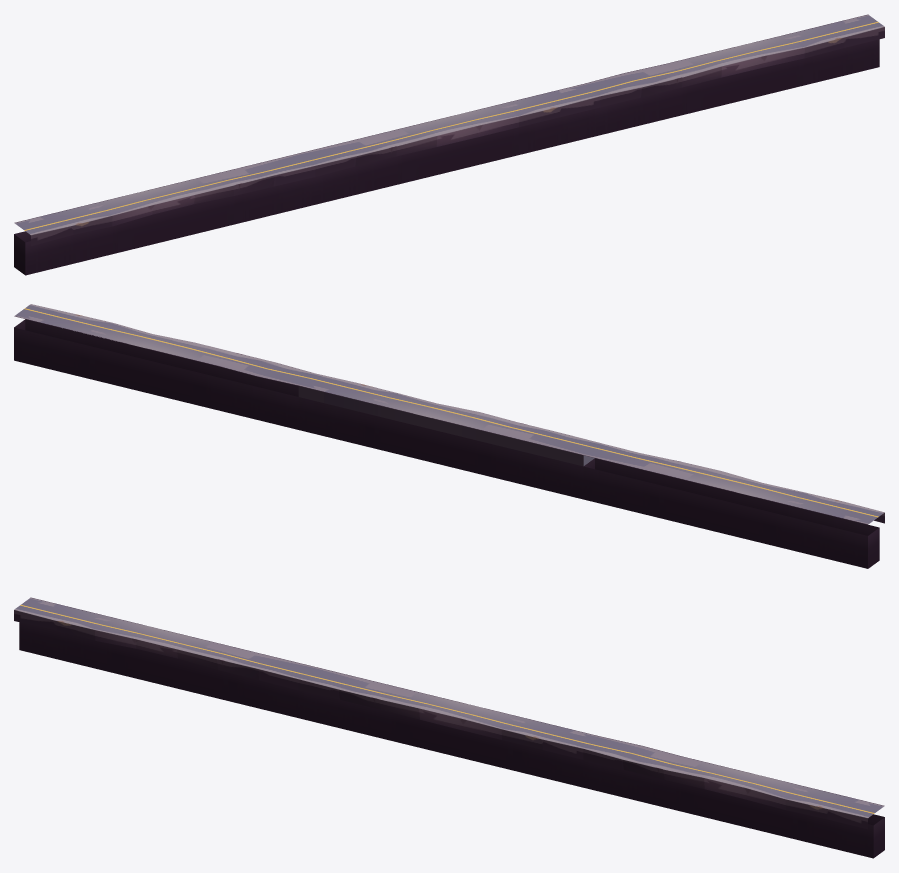
Rendered from Suelo_ante_de_la_via.fbx.
The picture shows the model from 3 angles, top to bottom: view 1: azimuth 30°, elevation 25°; view 2: azimuth 150°, elevation 25°; view 3: azimuth 330°, elevation 25°; orthographic projection.
Visible parts, largest first — view 1: Cube.002; view 2: Cube.002; view 3: Cube.002.
Boxes of the visible parts, <box> form: Cube.002: <box>14,14,884,275</box>; Cube.002: <box>14,304,884,568</box>; Cube.002: <box>14,597,884,858</box>.
Bounding box in the file's own units: 1281 × 64.63 × 49.69.
